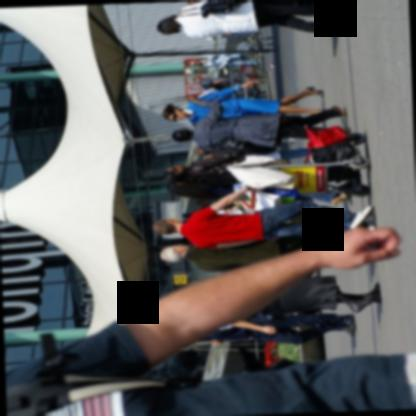backpack: (198, 79, 225, 91)
handbag: (304, 125, 347, 158), (177, 0, 243, 18), (252, 295, 284, 325), (202, 140, 257, 155)
suitcase: (304, 124, 347, 149), (327, 164, 354, 183), (312, 145, 337, 162), (254, 0, 324, 6)
